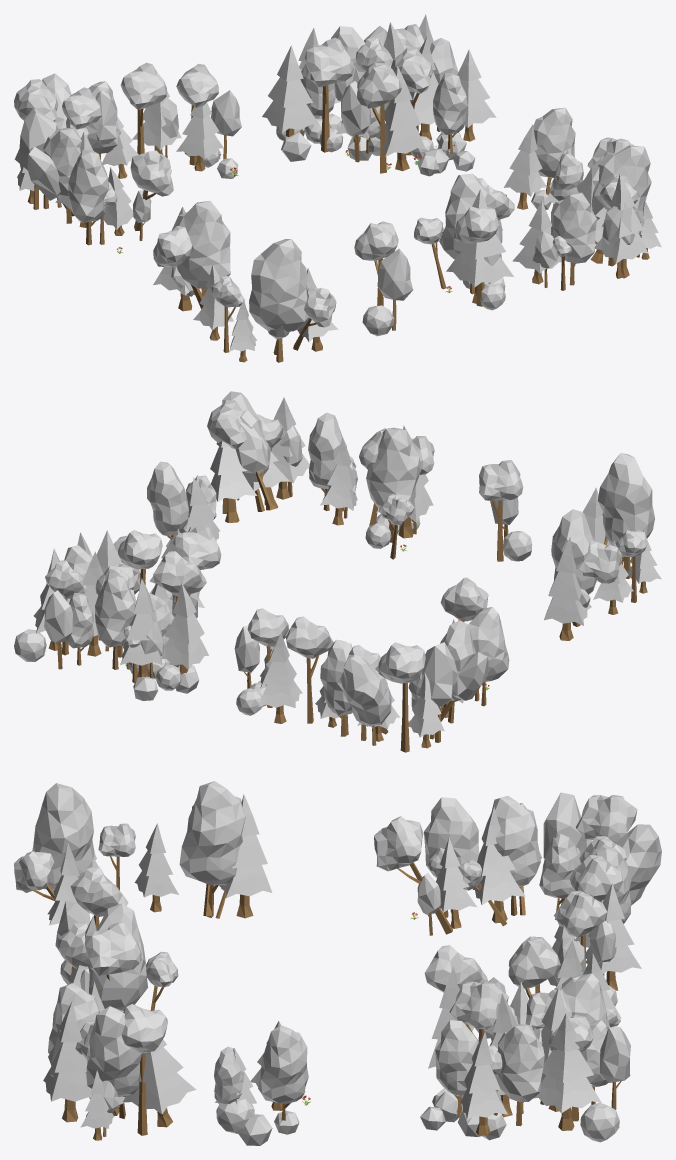
File: Tile5Foliage.fbx
The picture shows the model from 3 angles, top to bottom: view 1: azimuth 30°, elevation 25°; view 2: azimuth 150°, elevation 25°; view 3: azimuth 270°, elevation 25°; orthographic projection. The views are drawn at different scales.
Parts seen in each view (by area): view 1: 6.001; view 2: 6.001; view 3: 6.001.
Boxes of the visible parts, left/top/right/bottom form: 6.001: left=14, top=14, right=661, bottom=362; 6.001: left=14, top=391, right=661, bottom=752; 6.001: left=14, top=781, right=661, bottom=1145.
Bounding box in the file's own units: 6963 × 2025 × 7535.
